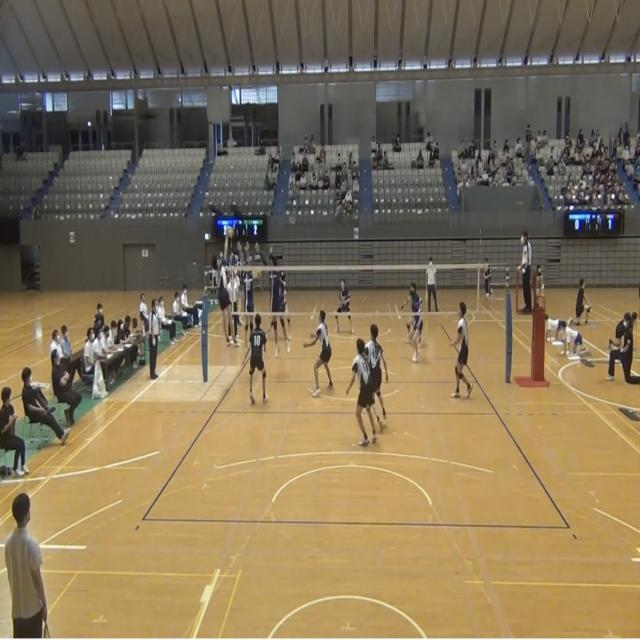spike: (211, 226, 240, 354)
